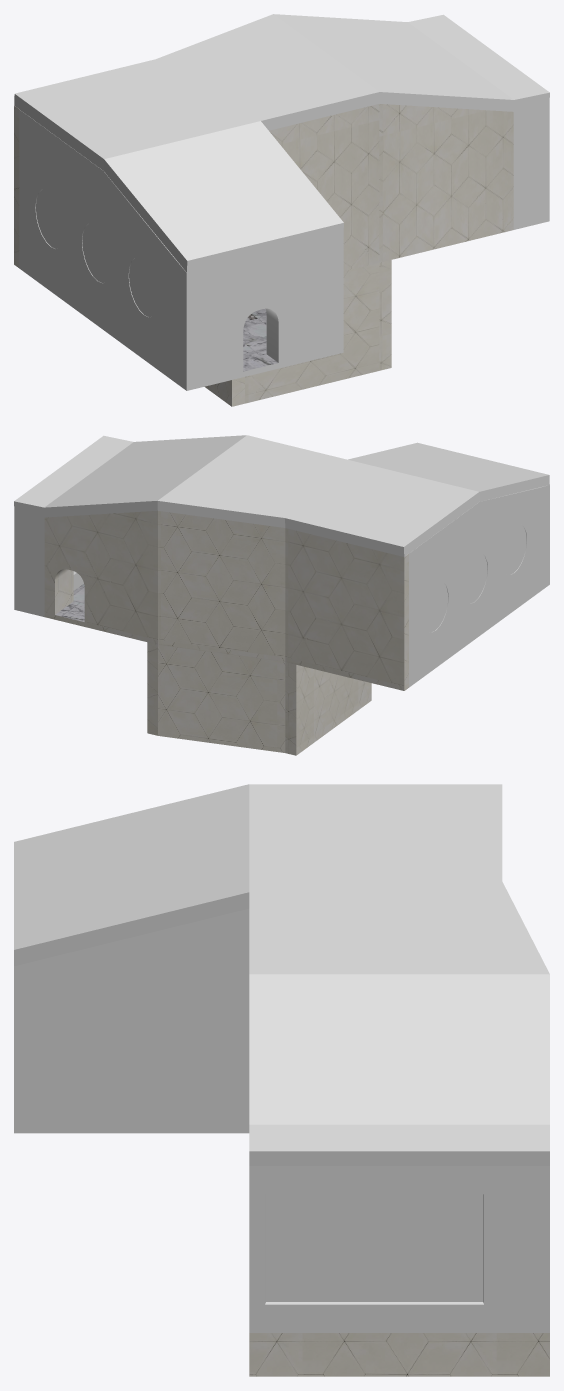
File: Building 5.fbx
3 views of the same model, one above another, from view 1: azimuth 30°, elevation 25°; view 2: azimuth 150°, elevation 25°; view 3: azimuth 270°, elevation 25° (orthographic). The views are drawn at different scales.
Visible parts, largest first — view 1: Cube.023, Cube.012, Cube.006, Cube.018, Cube.022, Cube.001, Cube.019, Cube.020, Cube.005, Cube.009, Cube.021; view 2: Cube.009, Cube.023, Cube.006, Cube.021, Cube.022, Cube.001, Cube.018, Cube.020; view 3: Cube.023, Cube.019, Cube.022, Cube, Cube.020.
Part boxes in pixels (bbox=[...]): Cube.023: bbox=[14, 14, 549, 272]; Cube.012: bbox=[245, 104, 513, 403]; Cube.006: bbox=[19, 109, 174, 381]; Cube.018: bbox=[174, 238, 327, 390]; Cube.022: bbox=[513, 103, 549, 229]; Cube.001: bbox=[36, 188, 159, 317]; Cube.019: bbox=[328, 234, 343, 356]; Cube.020: bbox=[379, 260, 391, 370]; Cube.005: bbox=[243, 308, 266, 359]; Cube.009: bbox=[14, 105, 19, 267]; Cube.021: bbox=[204, 377, 244, 406]; Cube.009: bbox=[44, 510, 408, 752]; Cube.023: bbox=[14, 435, 549, 556]; Cube.006: bbox=[409, 487, 539, 687]; Cube.021: bbox=[285, 662, 371, 755]; Cube.022: bbox=[14, 511, 83, 616]; Cube.001: bbox=[422, 524, 526, 632]; Cube.018: bbox=[539, 485, 549, 591]; Cube.020: bbox=[147, 642, 157, 735]; Cube.023: bbox=[14, 784, 549, 1165]; Cube.019: bbox=[14, 908, 249, 1133]; Cube.022: bbox=[249, 1166, 549, 1332]; Cube: bbox=[266, 1194, 482, 1301]; Cube.020: bbox=[249, 1333, 549, 1376].
Bounding box in the file's own units: 16.6 × 9.91 × 12.21.
3 materials, 2 textured.
